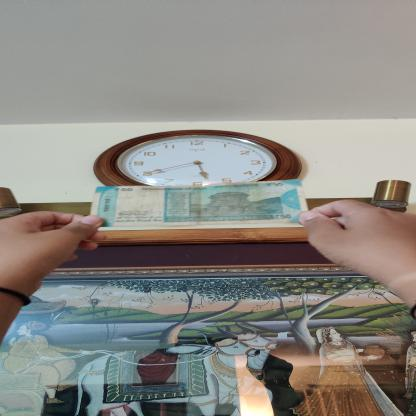New50Back: (90, 179, 308, 226)
